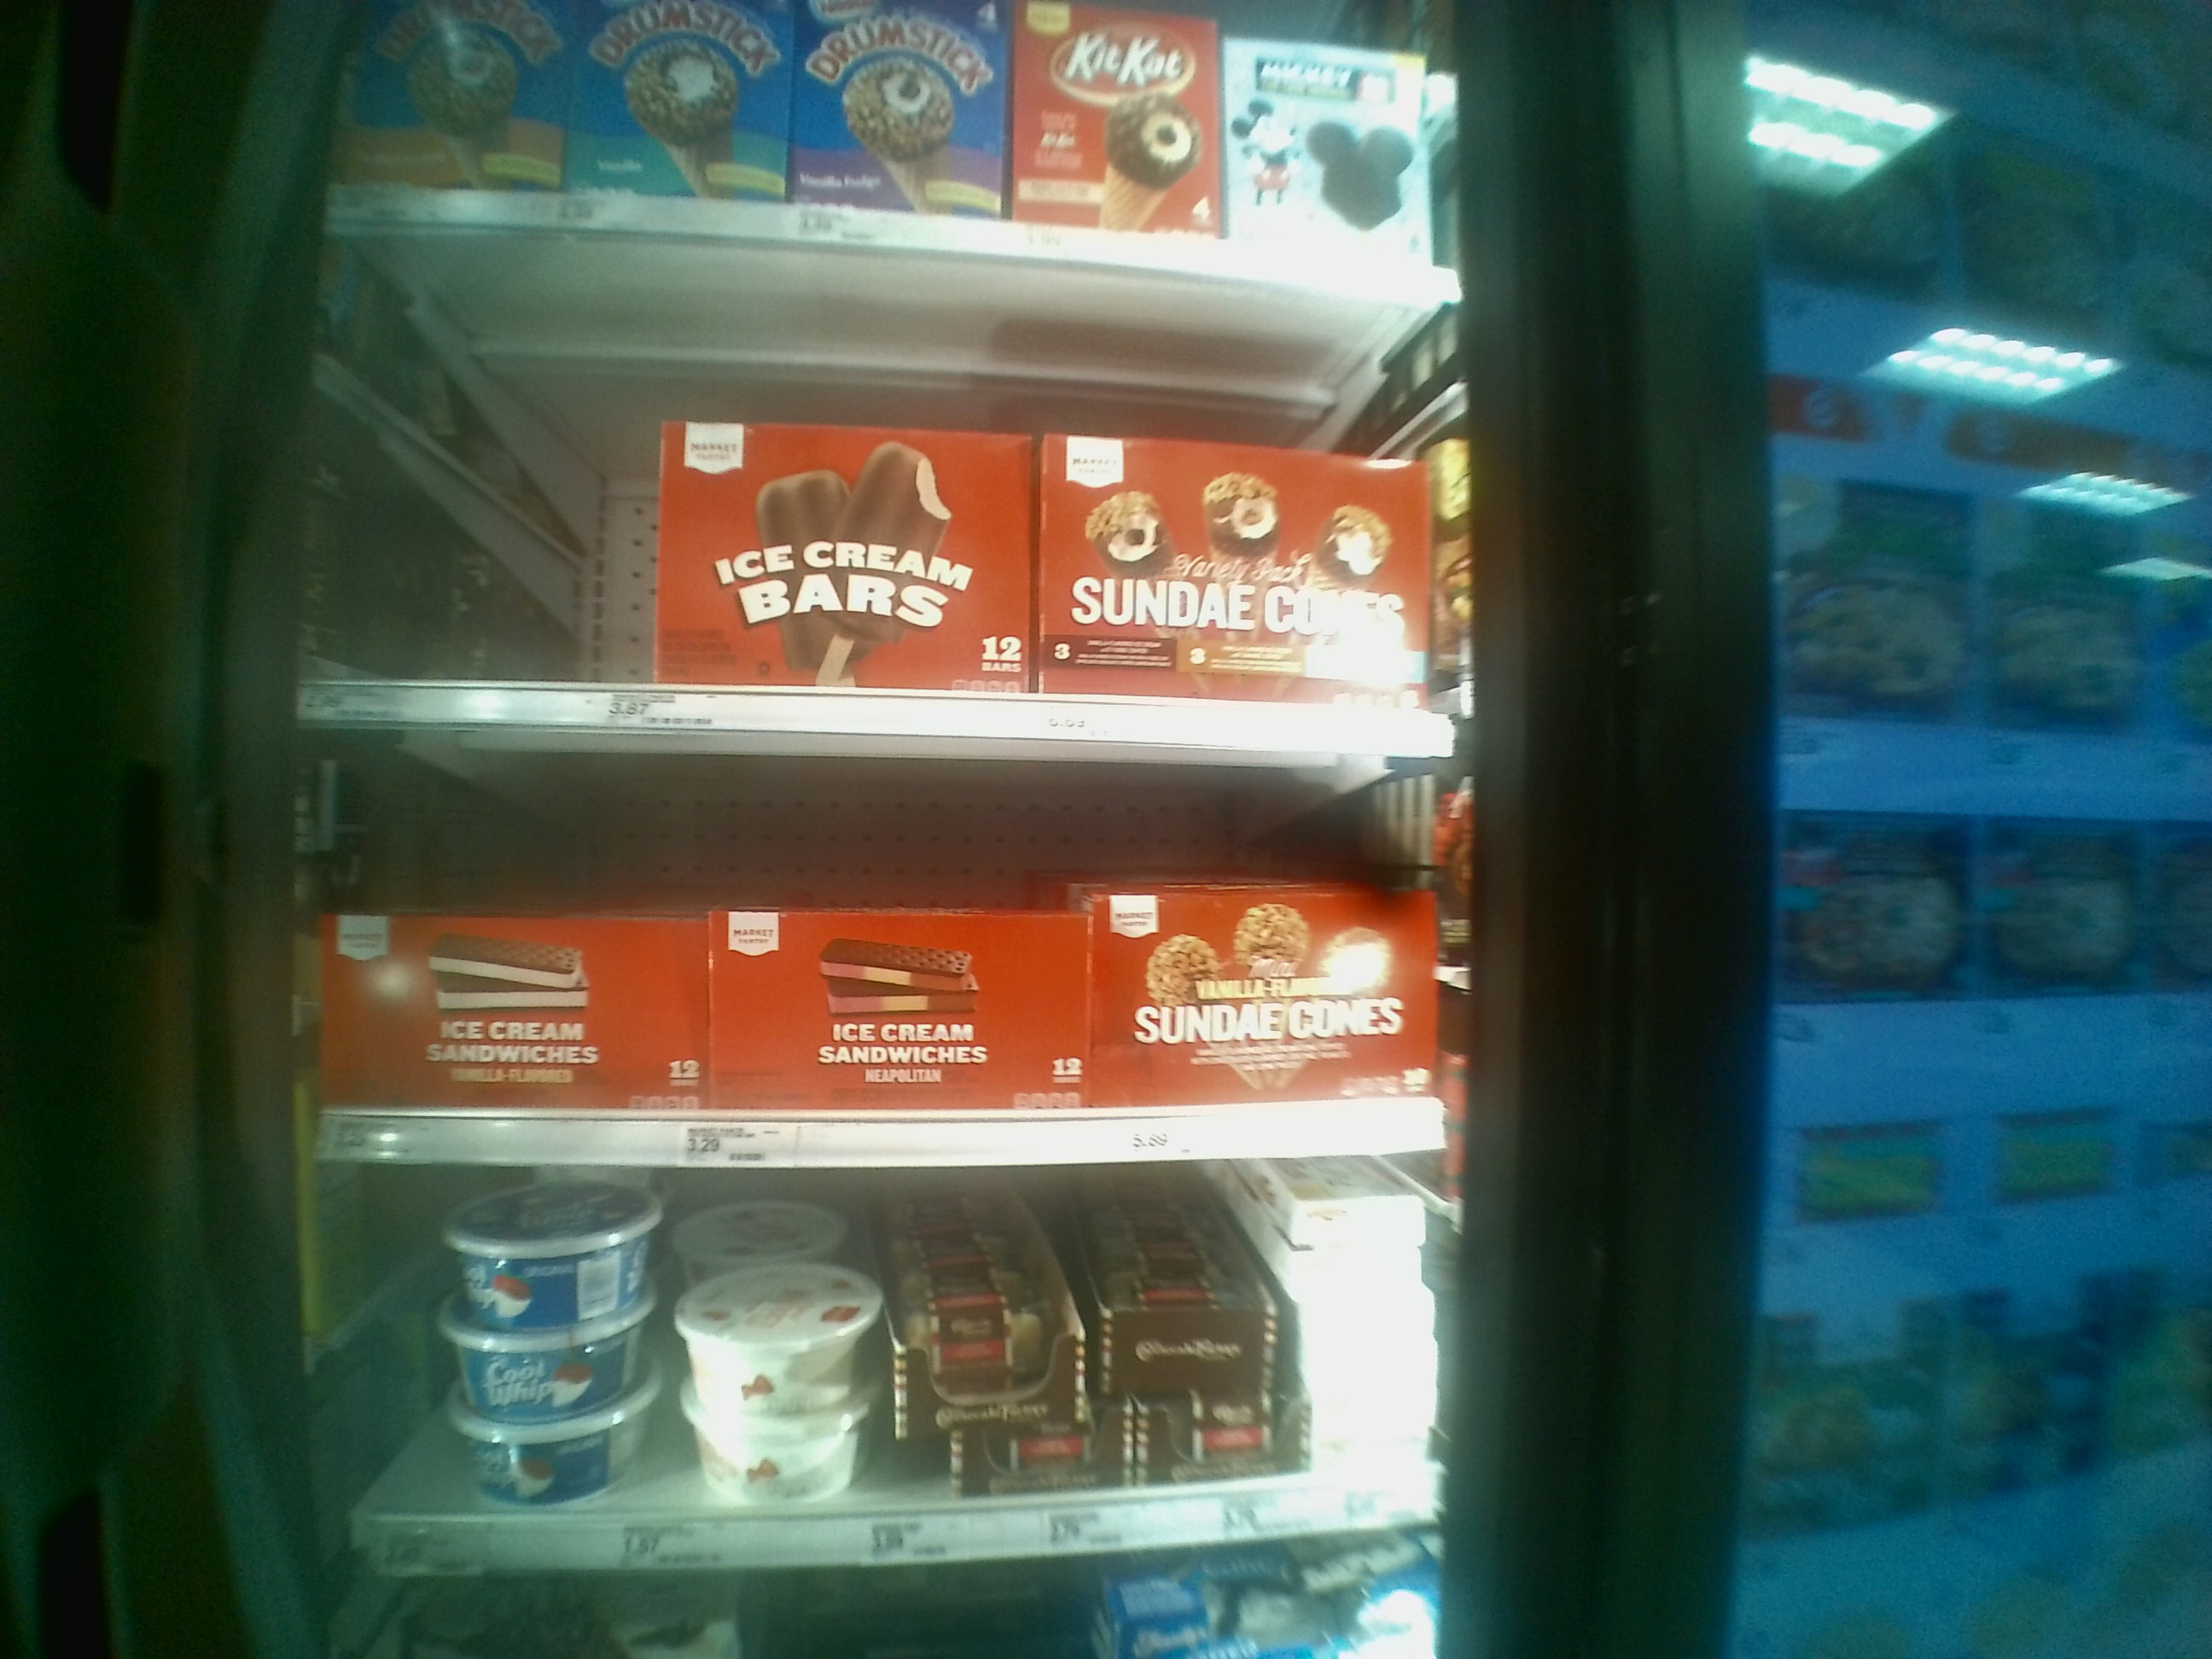shelf: (310, 256, 1439, 749), (284, 723, 1440, 1148)
